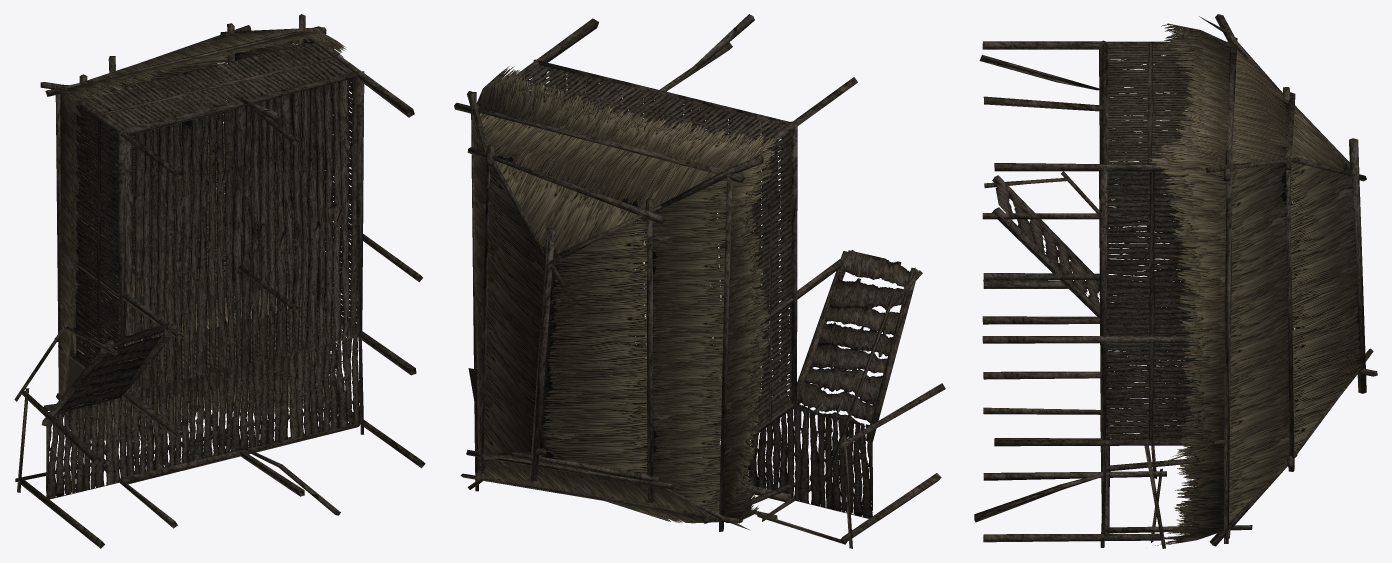
Rendered from MEP_Shack_03_LOD_02.fbx.
3 renders of one model, left to right at view 1: azimuth 30°, elevation 25°; view 2: azimuth 150°, elevation 25°; view 3: azimuth 270°, elevation 25°, orthographic. The views are drawn at different scales.
Visible parts, largest first — view 1: MEP_Shack_03_LOD_02; view 2: MEP_Shack_03_LOD_02; view 3: MEP_Shack_03_LOD_02.
Part boxes in pixels (box(x1,y1,x2,y2)): MEP_Shack_03_LOD_02: box(14, 14, 425, 548); MEP_Shack_03_LOD_02: box(454, 14, 945, 548); MEP_Shack_03_LOD_02: box(974, 14, 1377, 548).
Bounding box in the file's own units: 16.38 × 18.91 × 15.81.
